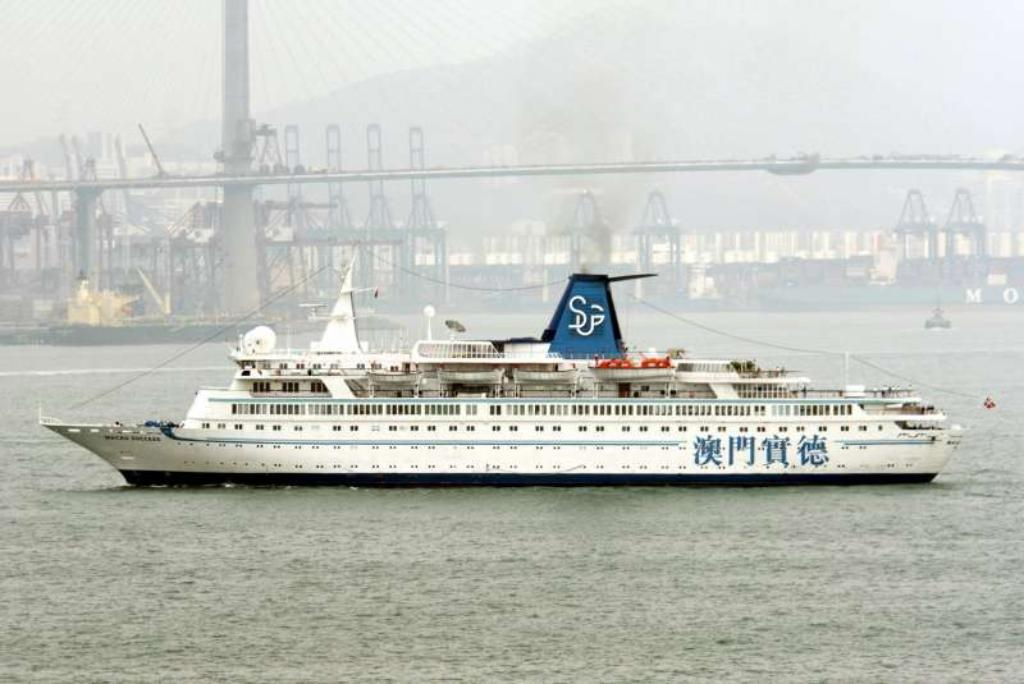PassengerShip: (36, 258, 974, 496)
